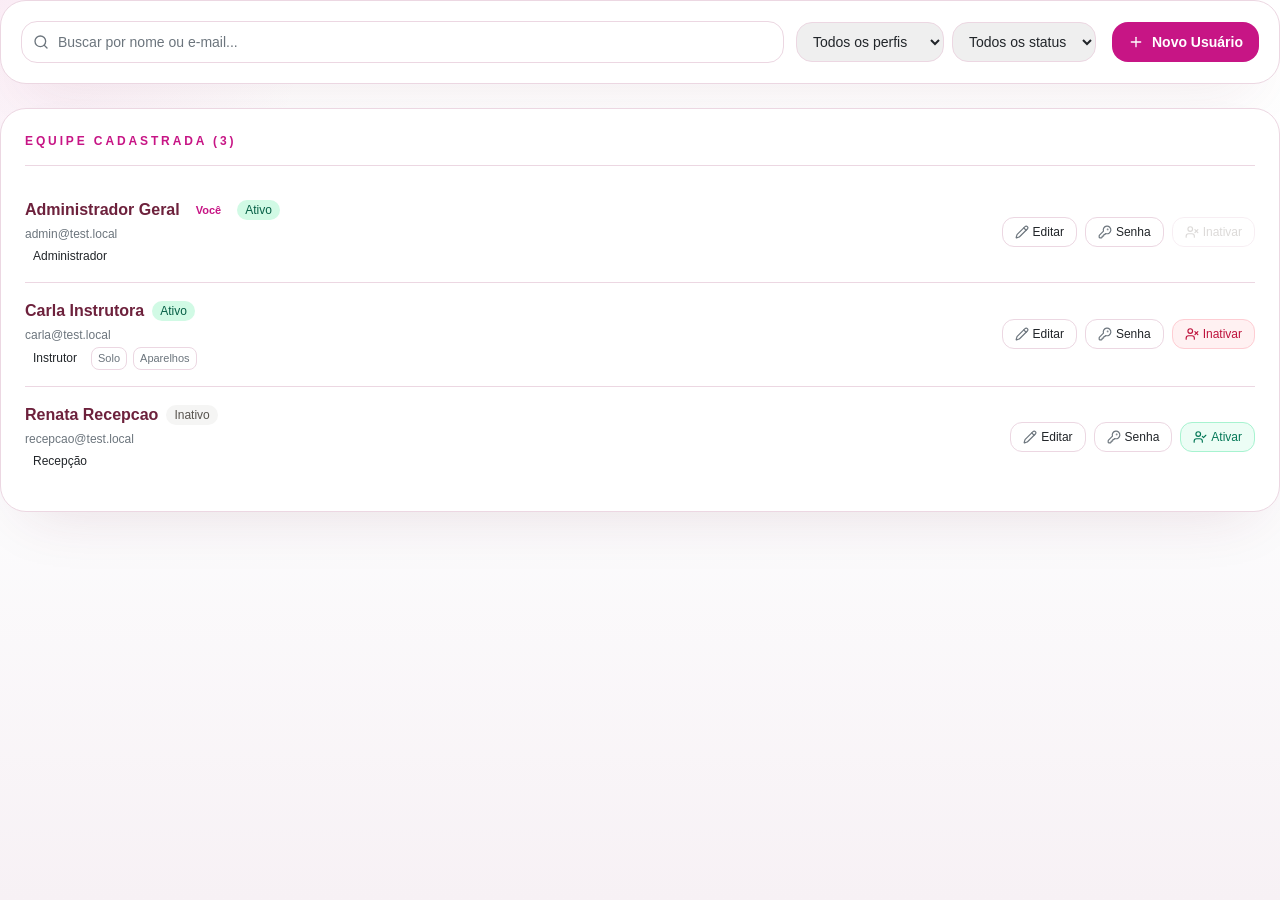
Scenario: UsersManagementPanel › permite cadastrar novo usuario com sucesso e atualiza a lista
Click the button "Novo Usuário" at x=1186, y=42, box [1112, 22, 1259, 62]
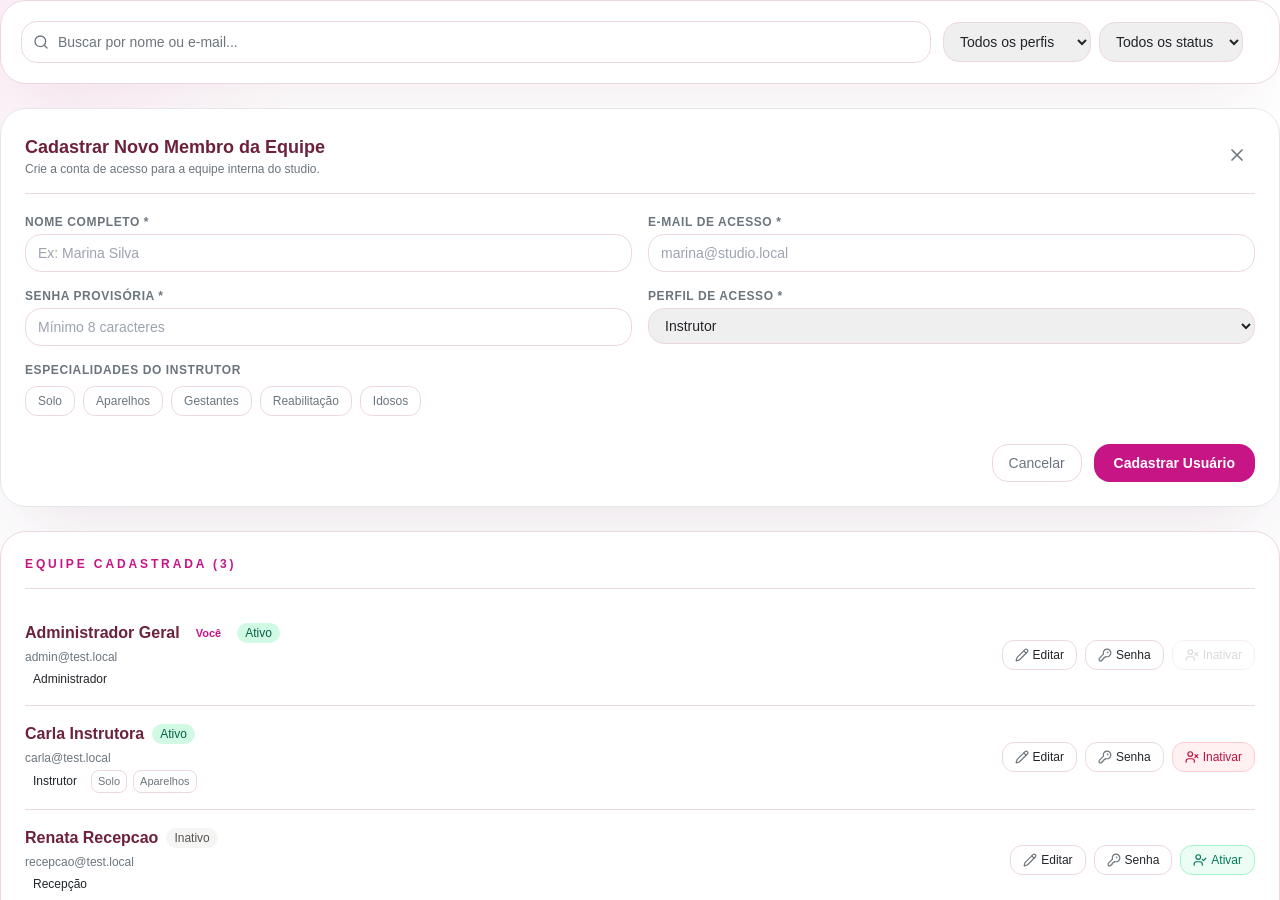
Type "Novo Instrutor" into the field with placeholder "Ex: Marina Silva" at x=328, y=253, box [25, 234, 632, 272]
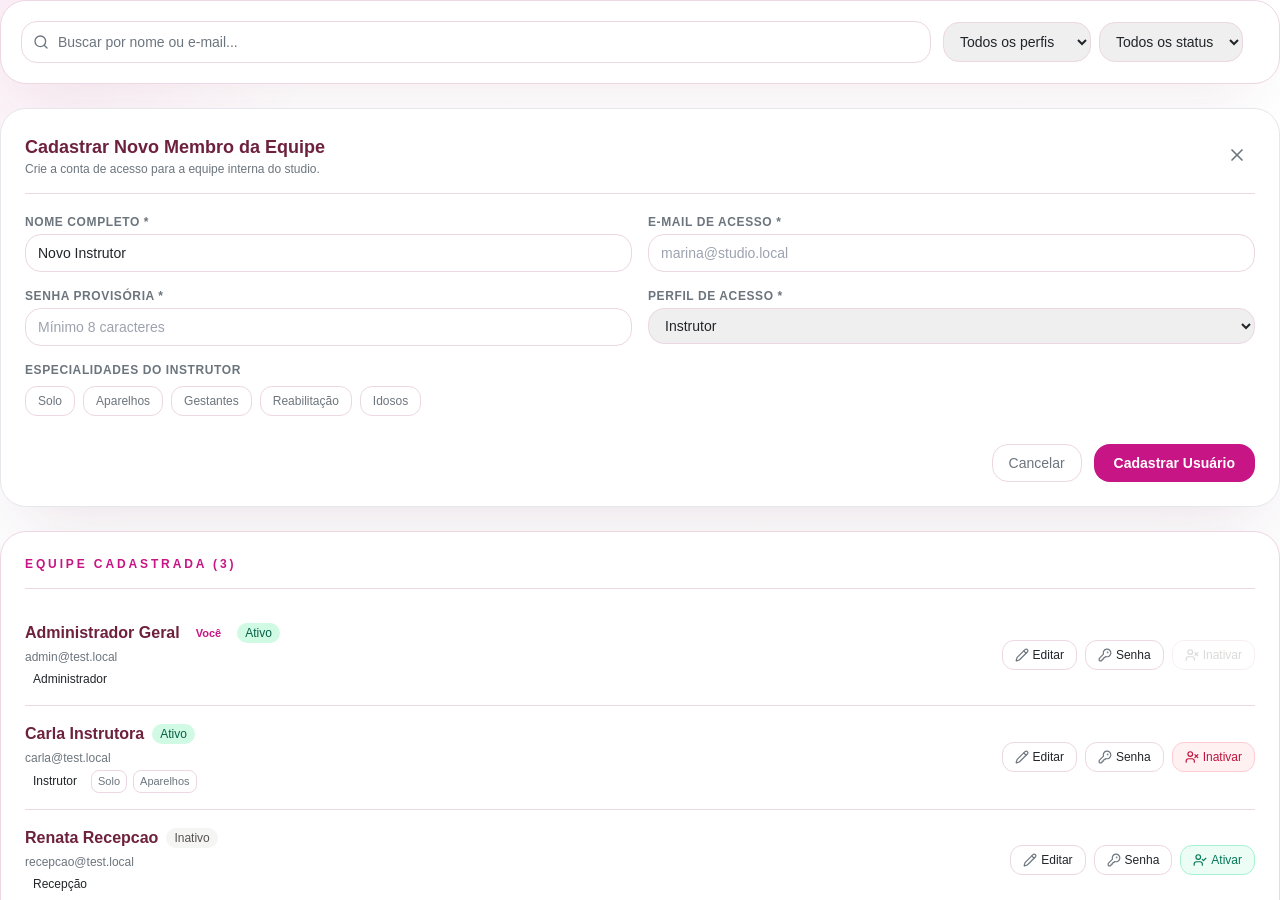
Type "novo@test.local" into the field with placeholder "marina@studio.local" at x=952, y=253, box [648, 234, 1255, 272]
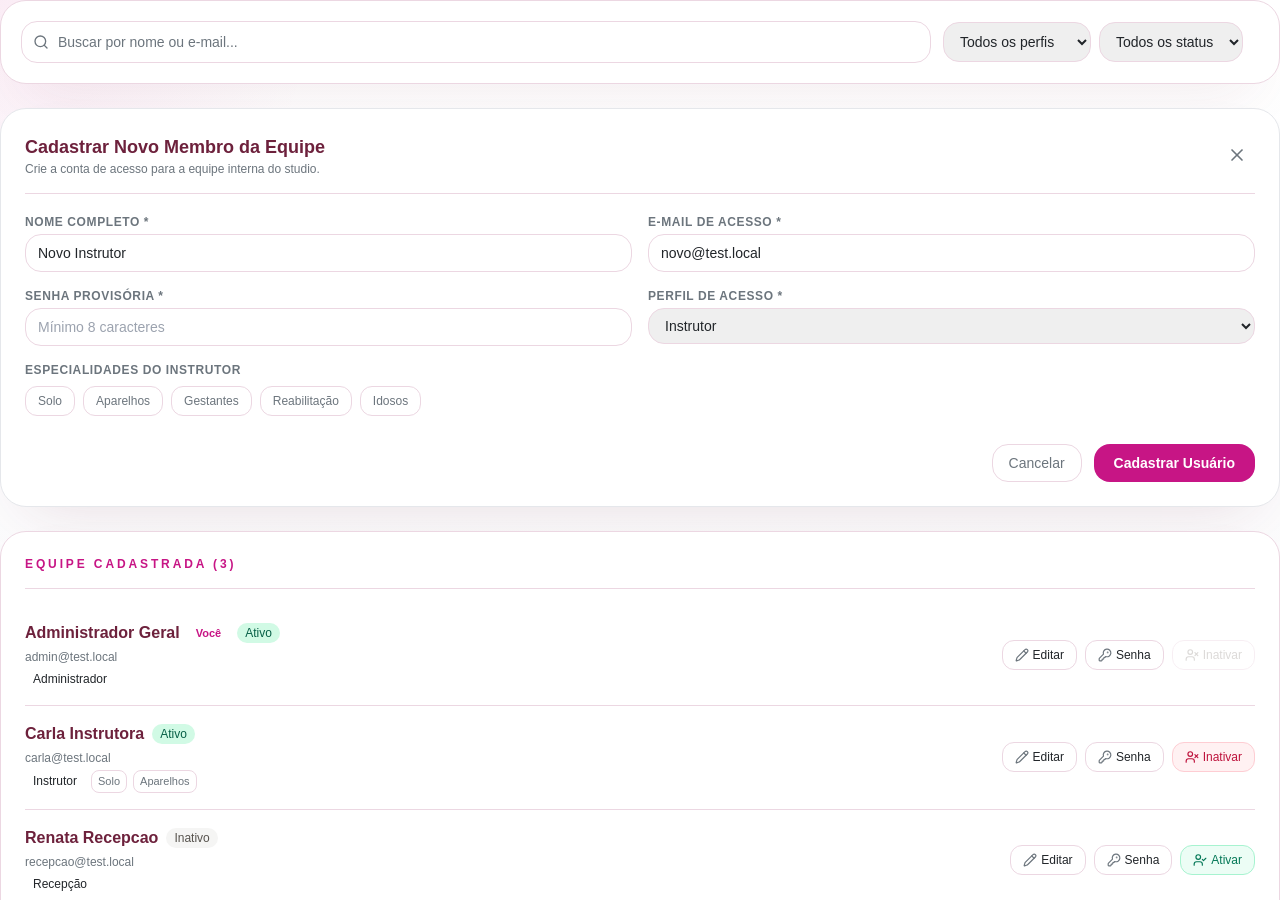
Type "SenhaSegura123" into the password field with placeholder "Mínimo 8 caracteres" at x=328, y=327, box [25, 308, 632, 346]
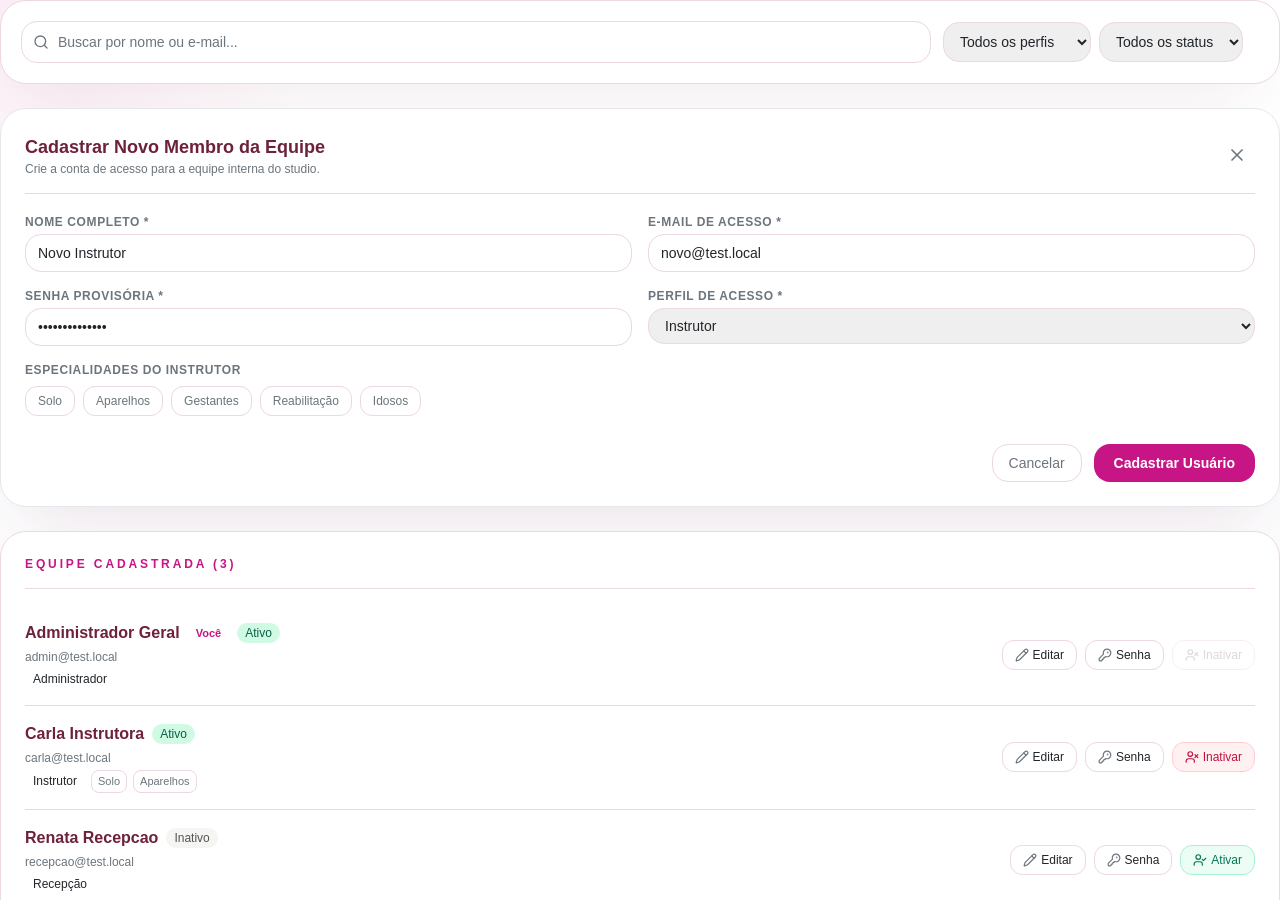
Click the button "Solo" at x=50, y=401, box [25, 386, 75, 416]
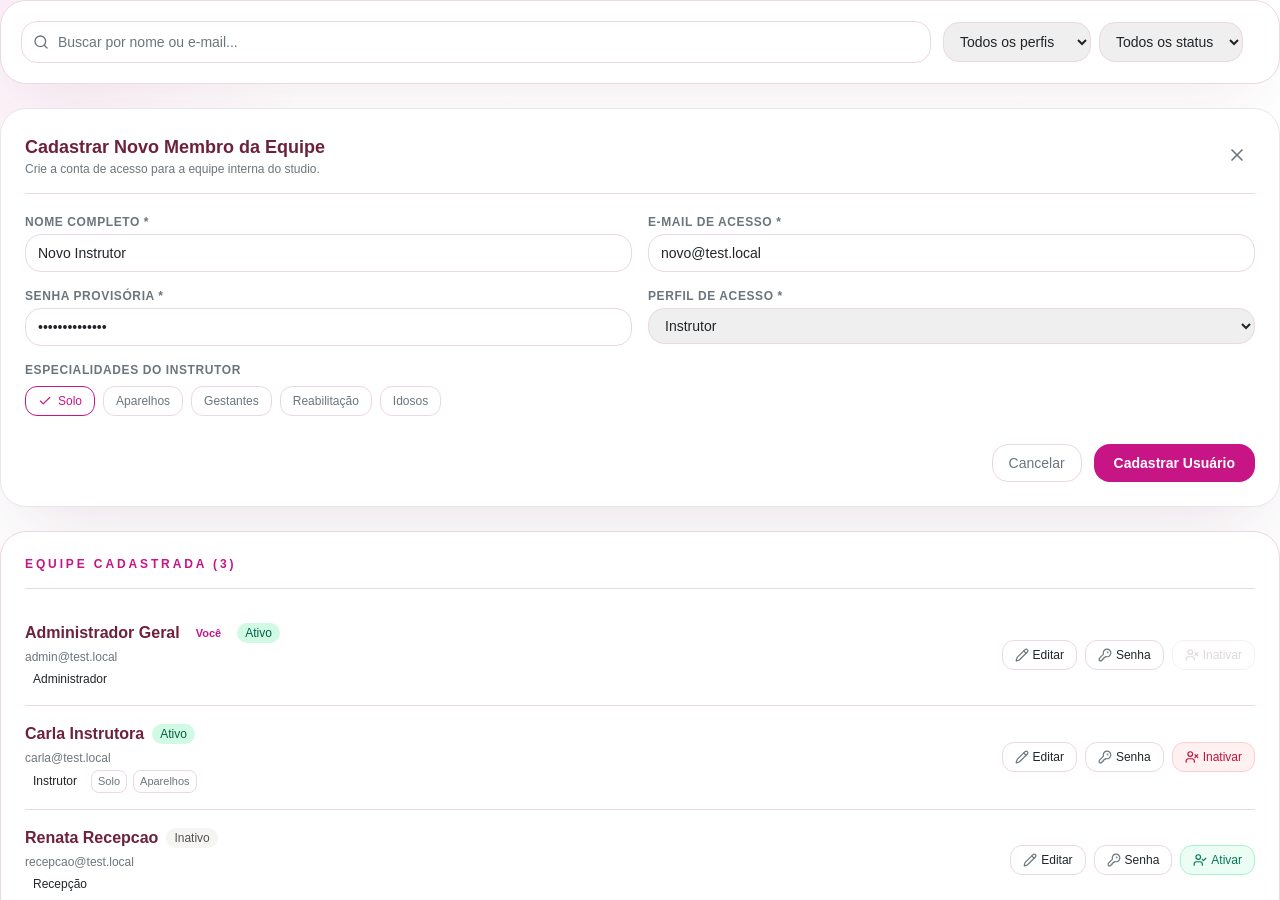
Click the button "Cadastrar Usuário" at x=1174, y=463, box [1094, 444, 1255, 482]
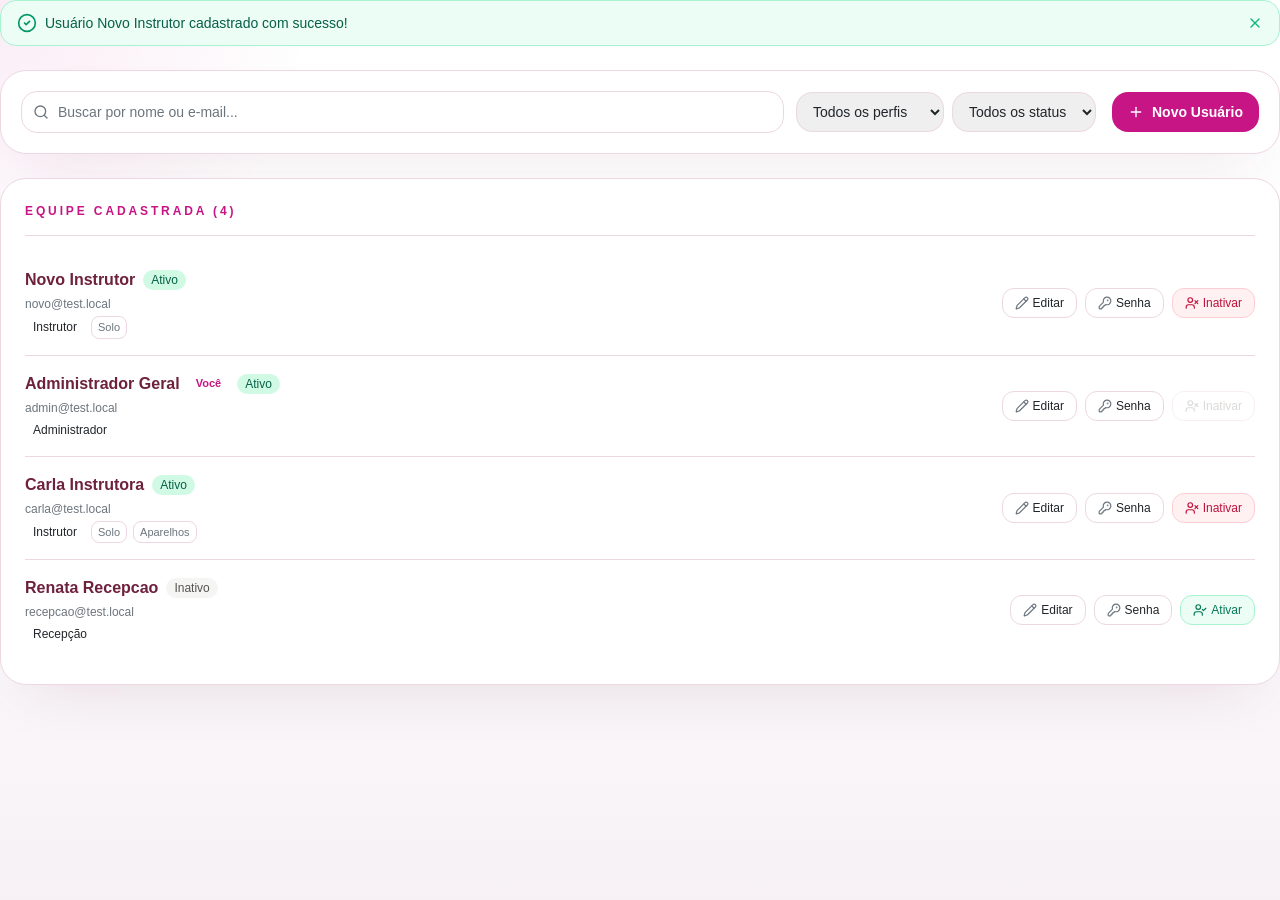
Now the text "Usuário Novo Instrutor cadastrado com sucesso!" is shown, box [45, 13, 348, 33]
Now the text "Equipe Cadastrada (4)" is shown, box [25, 203, 236, 219]
